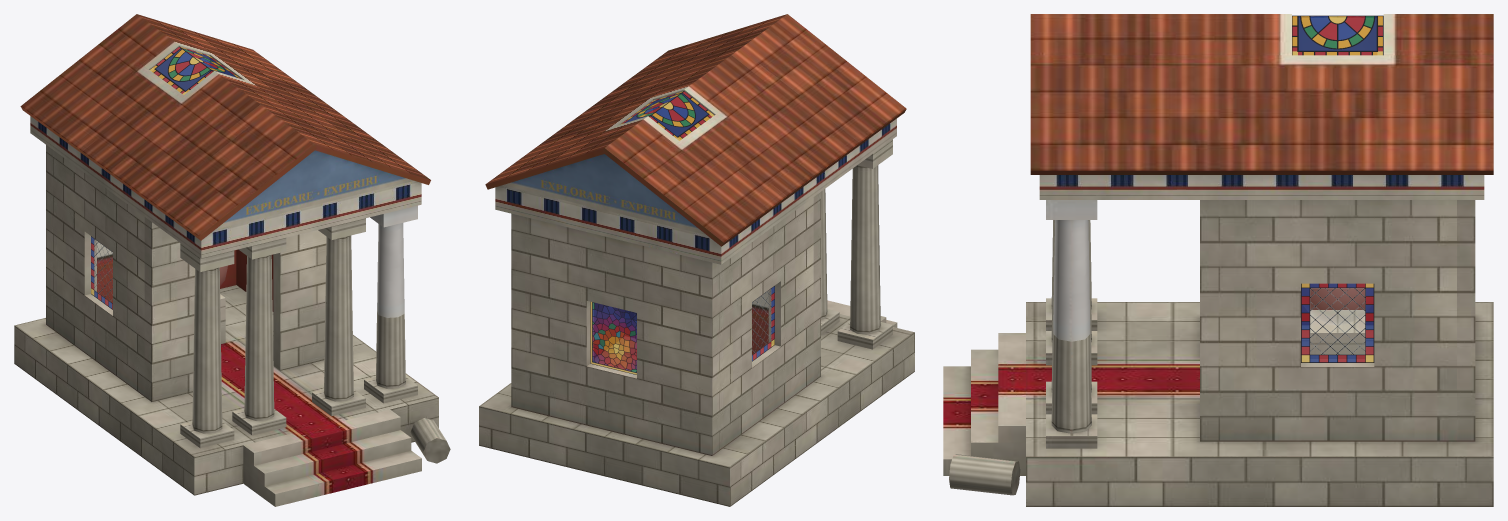
Rendered from Tempietto.glb.
3 renders of one model, left to right at view 1: azimuth 30°, elevation 25°; view 2: azimuth 150°, elevation 25°; view 3: azimuth 270°, elevation 25°, orthographic. The views are drawn at different scales.
Parts seen in each view (by area): view 1: Slope_Left, Block, Wall_Left, Wall_Front, Slope_Right, Entablature, Column_1, Column_2, Column_3, Pediment_Front, Step_1, Step_2 (+9 smaller); view 2: Wall_Back, Slope_Left, Block, Wall_Left, Slope_Right, Entablature, Column_1, Pediment_Back, Window_Back_Abstract, Wall_Front, Skylight_Well, Skylight_Left (+4 smaller); view 3: Slope_Right, Wall_Right, Block, Entablature, Column_4_Reconstructed, Column_4_Stump, Wall_Front, Wall_Back, Skylight_Right, Step_2, Window_Right, Step_3 (+9 smaller).
Boxes of the visible parts, <box> form: Slope_Left: <box>20,14,316,240</box>; Block: <box>14,285,438,495</box>; Wall_Left: <box>53,150,144,396</box>; Wall_Front: <box>144,217,326,401</box>; Slope_Right: <box>137,14,430,184</box>; Entablature: <box>30,116,421,258</box>; Column_1: <box>180,243,234,448</box>; Column_2: <box>232,238,286,435</box>; Column_3: <box>312,218,365,415</box>; Pediment_Front: <box>216,150,413,228</box>; Step_1: <box>243,450,421,506</box>; Step_2: <box>243,430,411,486</box>; Wall_Back: <box>511,213,719,455</box>; Slope_Left: <box>602,14,906,246</box>; Block: <box>479,314,914,506</box>; Wall_Left: <box>719,197,813,450</box>; Slope_Right: <box>485,14,786,189</box>; Entablature: <box>495,118,896,264</box>; Column_1: <box>837,139,892,349</box>; Pediment_Back: <box>503,154,705,234</box>; Window_Back_Abstract: <box>590,301,636,374</box>; Wall_Front: <box>625,192,820,381</box>; Skylight_Well: <box>617,89,715,140</box>; Skylight_Left: <box>649,91,714,140</box>; Slope_Right: <box>1030,14,1493,174</box>; Wall_Right: <box>1218,200,1456,441</box>; Block: <box>1026,302,1493,506</box>; Entablature: <box>1039,175,1484,199</box>; Column_4_Reconstructed: <box>1046,200,1097,341</box>; Column_4_Stump: <box>1046,334,1097,448</box>; Wall_Front: <box>1200,200,1218,441</box>; Wall_Back: <box>1457,200,1475,441</box>; Skylight_Right: <box>1292,15,1383,55</box>; Step_2: <box>971,349,1025,459</box>; Window_Right: <box>1301,283,1374,362</box>; Step_3: <box>998,333,1025,442</box>.
Bounding box in the file's own units: 4 × 5 × 6.
3 materials, 2 textured.
